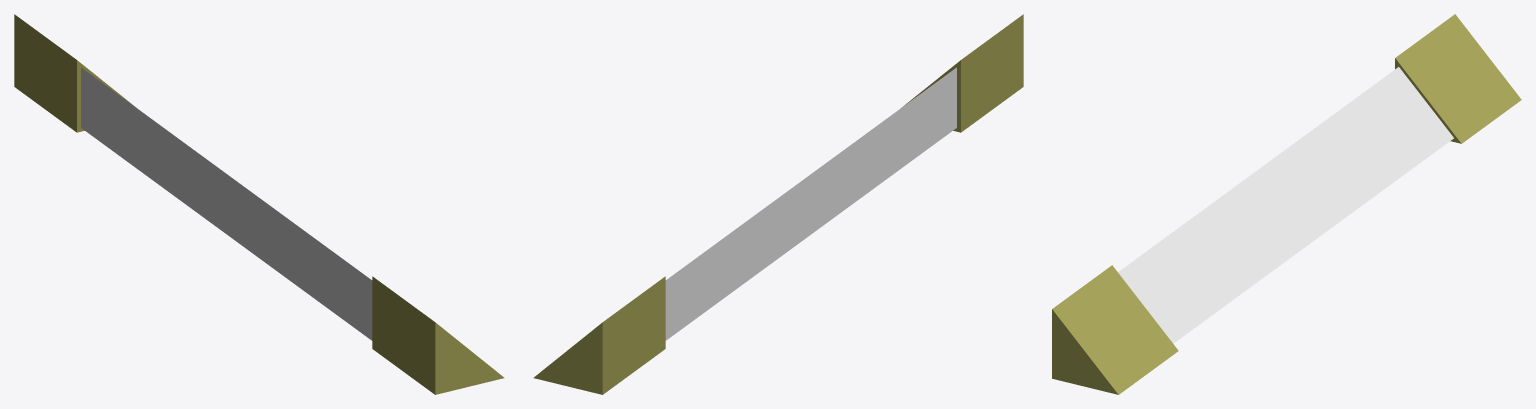
File: 3fuseTriangleYellow.fbx
3 views of the same model, side by side, from view 1: azimuth 30°, elevation 25°; view 2: azimuth 150°, elevation 25°; view 3: azimuth 330°, elevation 25° (orthographic). The views are drawn at different scales.
Parts seen in each view (by area): view 1: 立方体; view 2: 立方体; view 3: 立方体.
Boxes of the visible parts, x1,y1,x2,y2 form: 立方体: (14,14,504,394); 立方体: (533,14,1023,394); 立方体: (1052,14,1521,394).
Bounding box in the file's own units: 240 × 240 × 2520.
